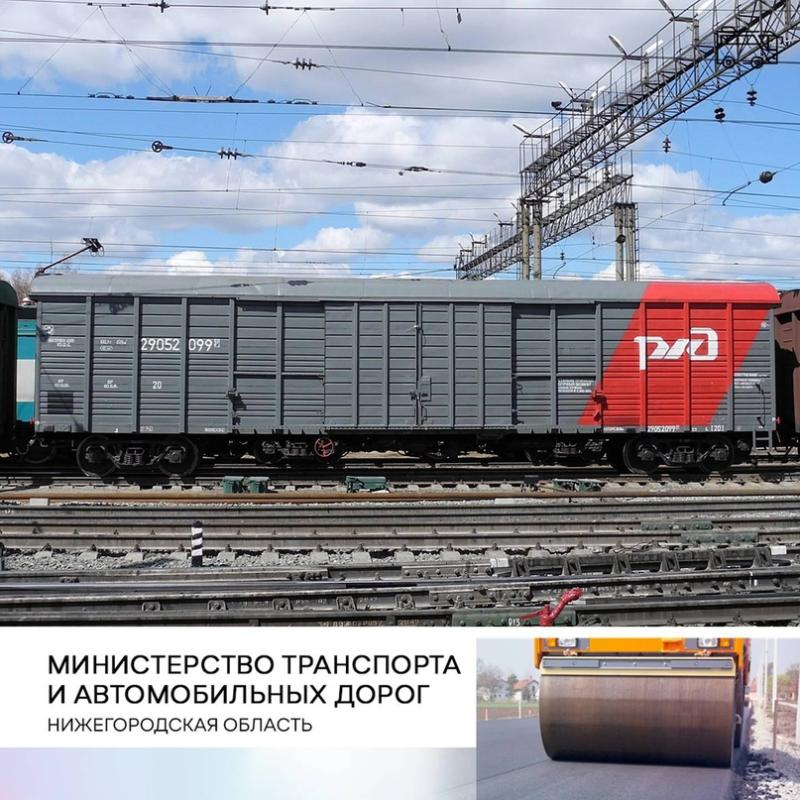train: (14, 240, 792, 497)
